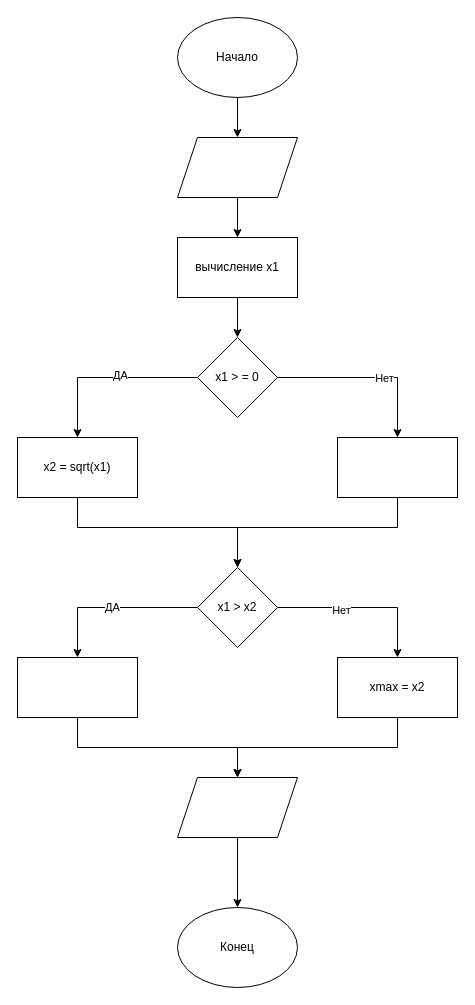
This 475x1005 diagram has some shape labels left out. The shapes that lost their labels are listed below. From the top down, each one's centre as x and y in pixels, then its label:
the point at 237,167: Ввод
the point at 397,467: x2 = abs(x1)
the point at 77,687: xmax = x1
the point at 237,807: вывод x1, x2, xmax
